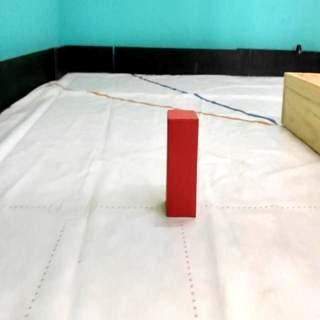redbox: (166, 108, 200, 218)
